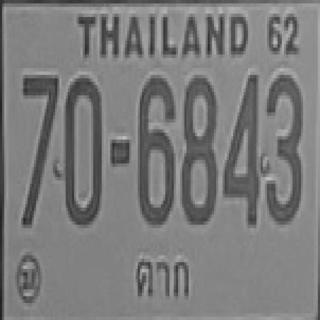N00: (64, 75, 102, 225)
N03: (264, 72, 302, 221)
N04: (221, 71, 260, 225)
N06: (137, 76, 175, 223)
N07: (21, 73, 59, 226), (22, 73, 58, 179)
N08: (180, 75, 216, 221)
P69: (135, 254, 195, 299)
